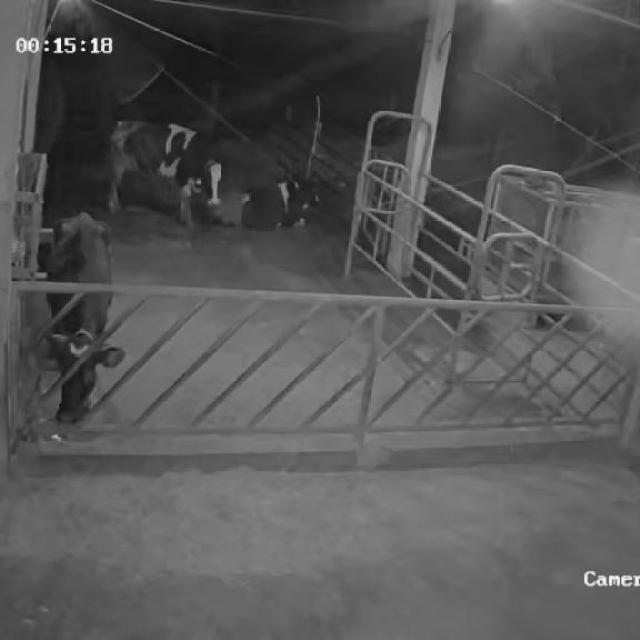lying down: (41, 208, 126, 429)
